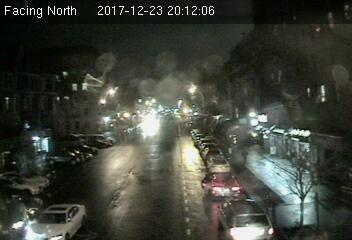car: (24, 199, 88, 240), (204, 172, 243, 199), (207, 156, 231, 175)
